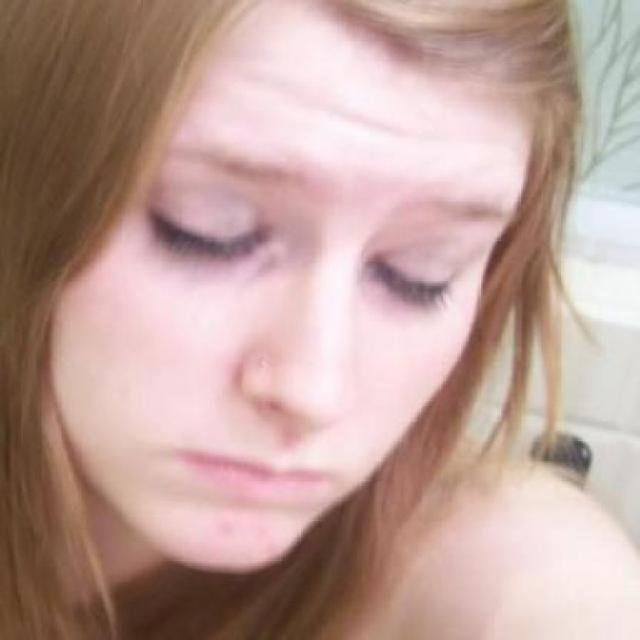drowsy: (149, 199, 269, 276), (373, 246, 456, 317)
